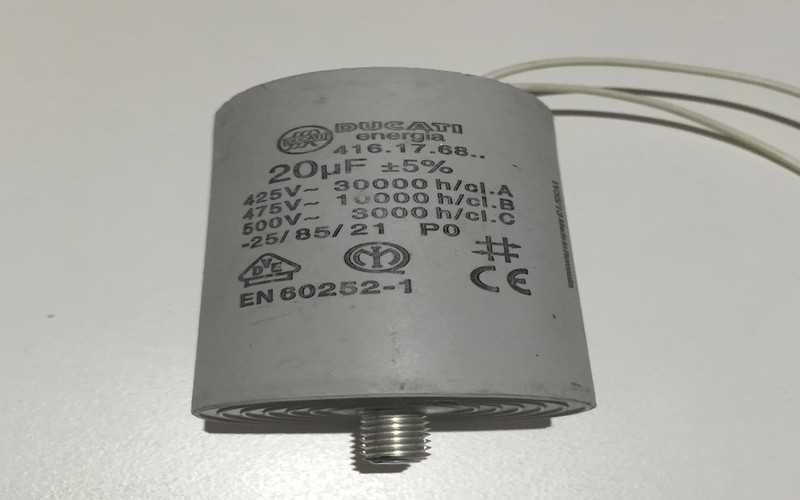Capacitor: (178, 64, 621, 461)
